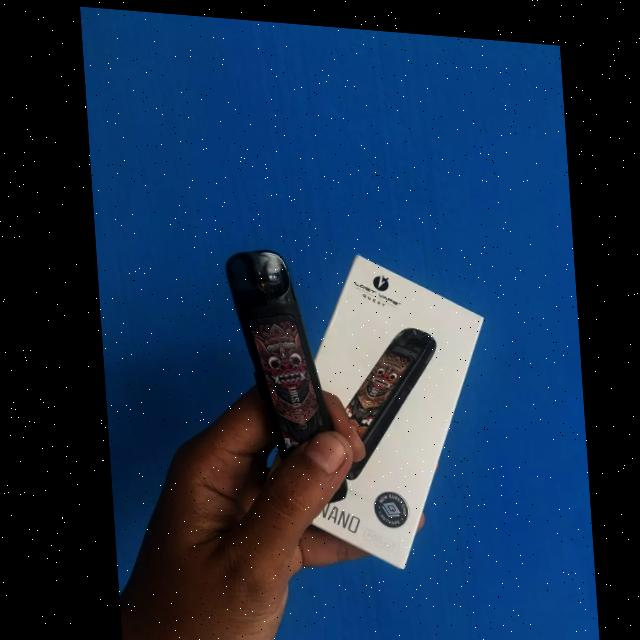vape: (221, 248, 342, 497), (329, 315, 440, 480)
